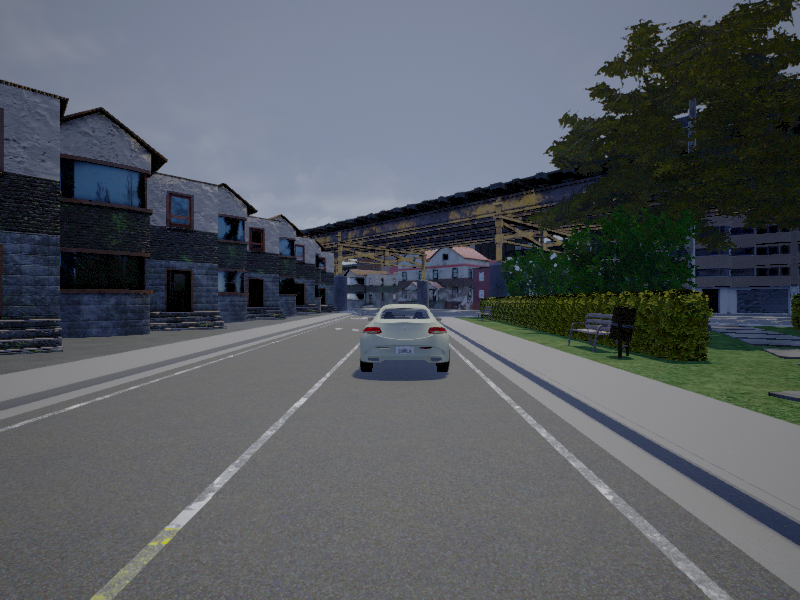Benign: (358, 303, 455, 378)
